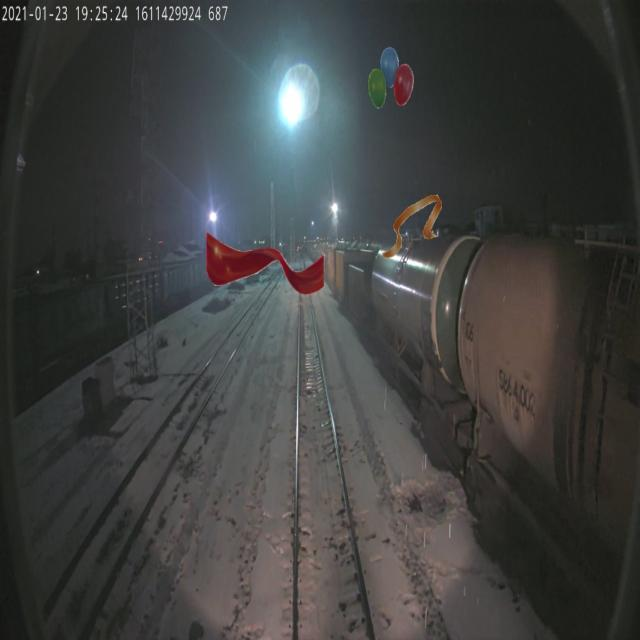balloon: (368, 46, 414, 110)
floating object: (204, 232, 326, 296), (382, 194, 442, 258)
